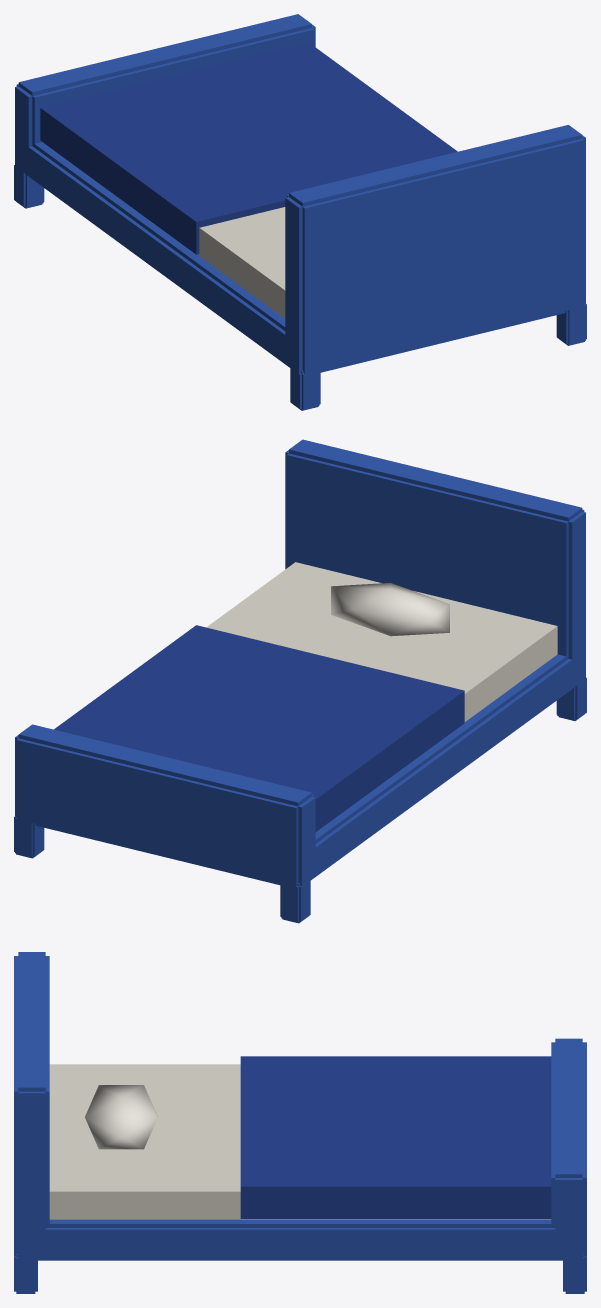
The model's file is mushroom_bed_v0.glb.
The picture shows the model from 3 angles, top to bottom: view 1: azimuth 30°, elevation 25°; view 2: azimuth 150°, elevation 25°; view 3: azimuth 270°, elevation 25°; orthographic projection.
Parts seen in each view (by area): view 1: mushroom_bed_v0; view 2: mushroom_bed_v0; view 3: mushroom_bed_v0.
Boxes of the visible parts, bbox=[...] form: mushroom_bed_v0: bbox=[14, 14, 586, 410]; mushroom_bed_v0: bbox=[14, 439, 586, 923]; mushroom_bed_v0: bbox=[14, 952, 586, 1293].
Size of the model in its own units: 1.38 by 0.95 by 2.4.
